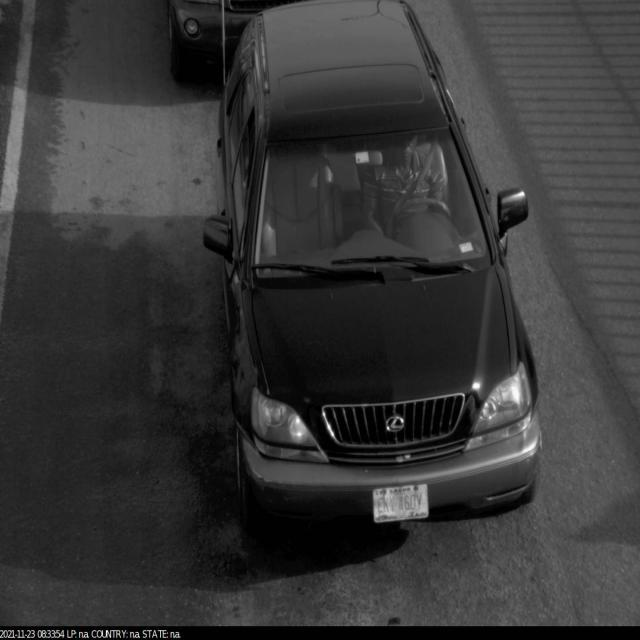windshield: (249, 108, 498, 307)
